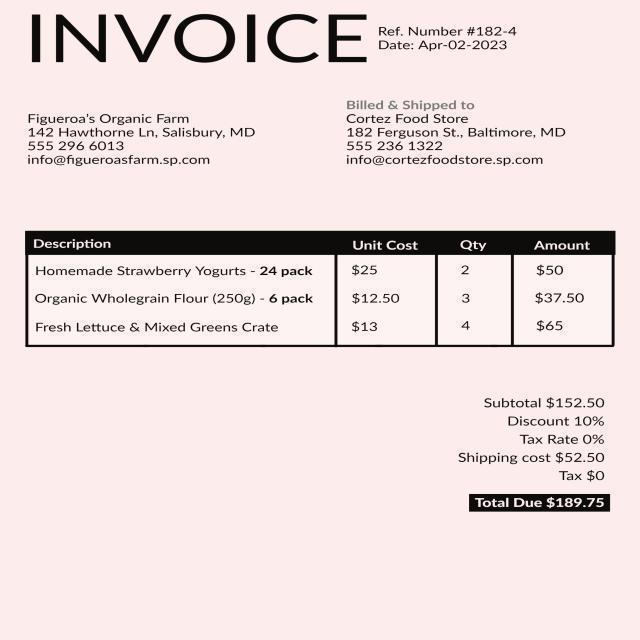paragraph: (10, 90, 275, 190), (17, 2, 369, 73), (450, 384, 622, 520), (338, 93, 574, 184), (373, 16, 525, 54)
table: (20, 225, 617, 351)
